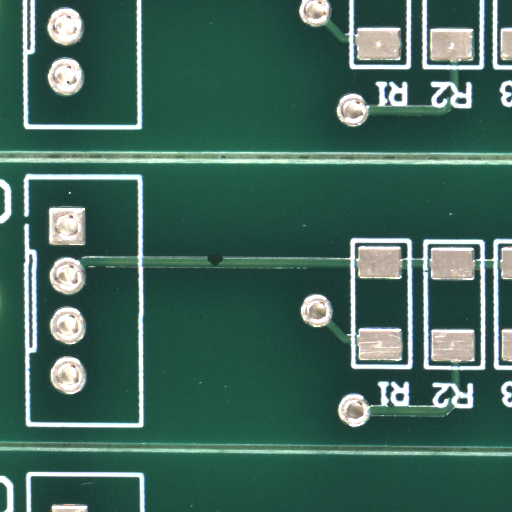Mouse_bite: (215, 261, 230, 272)
